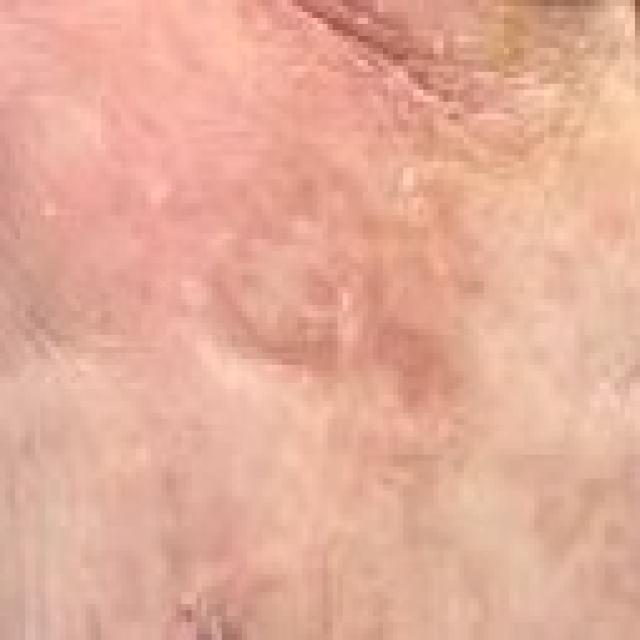wound: (200, 182, 481, 468)
